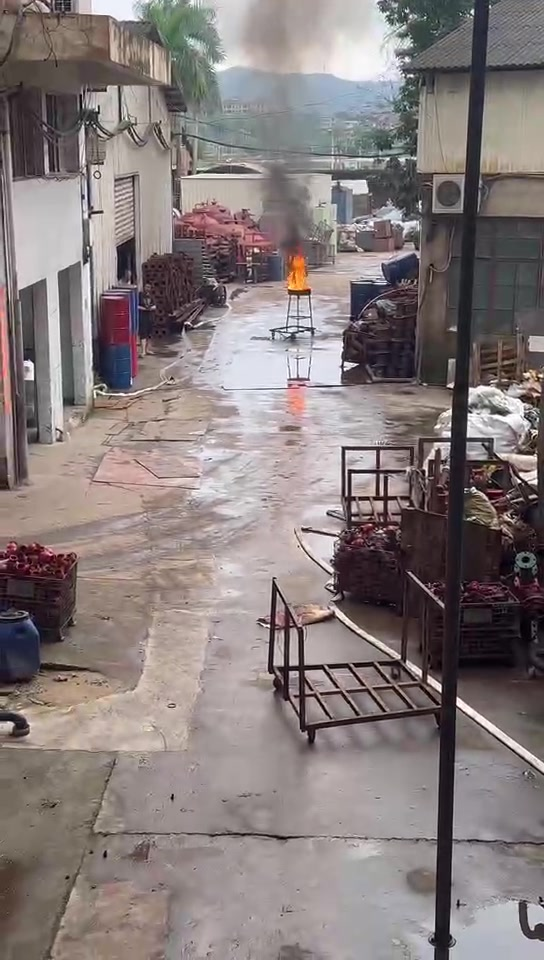fire: (286, 251, 311, 291)
